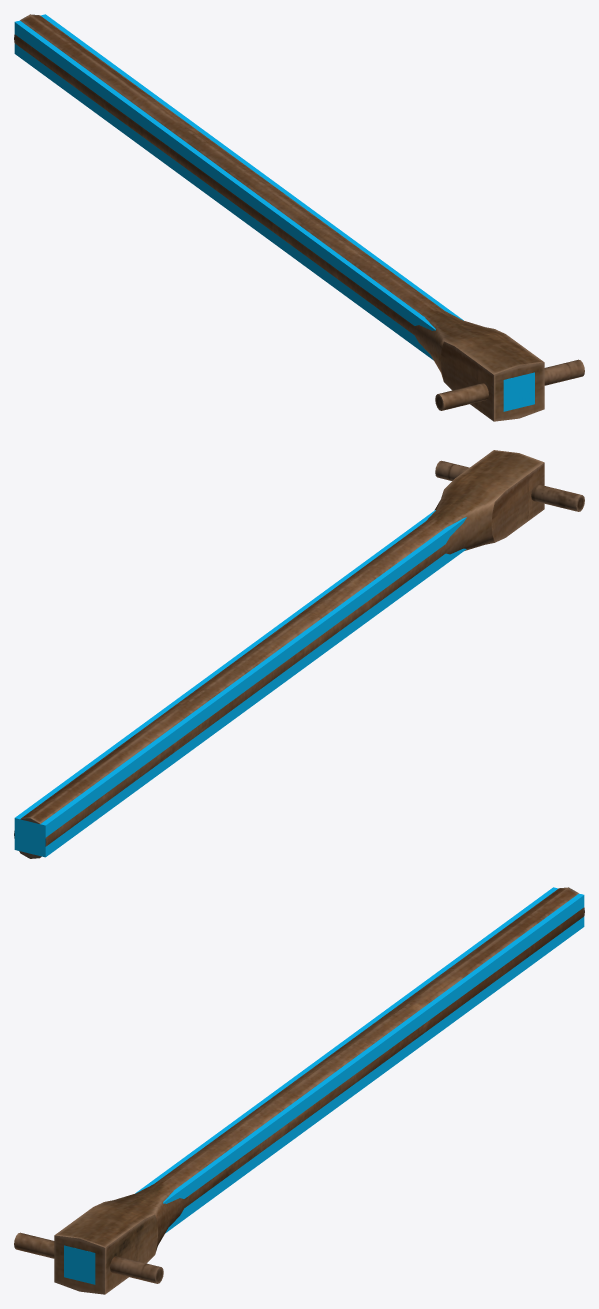
File: JWC_Shield_Tate_A_Pole_01.fbx
3 views of the same model, one above another, from view 1: azimuth 30°, elevation 25°; view 2: azimuth 150°, elevation 25°; view 3: azimuth 330°, elevation 25° (orthographic).
Parts seen in each view (by area): view 1: JWC_Shield_Tate_A_Pole_01, C_JWC_Shield_Tate_A_Pole_01; view 2: JWC_Shield_Tate_A_Pole_01, C_JWC_Shield_Tate_A_Pole_01; view 3: JWC_Shield_Tate_A_Pole_01, C_JWC_Shield_Tate_A_Pole_01.
Part boxes in pixels (x1=…): JWC_Shield_Tate_A_Pole_01: x1=14, y1=14, x2=584, y2=421; C_JWC_Shield_Tate_A_Pole_01: x1=14, y1=14, x2=534, y2=411; JWC_Shield_Tate_A_Pole_01: x1=14, y1=450, x2=584, y2=858; C_JWC_Shield_Tate_A_Pole_01: x1=14, y1=510, x2=466, y2=857; JWC_Shield_Tate_A_Pole_01: x1=14, y1=887, x2=584, y2=1294; C_JWC_Shield_Tate_A_Pole_01: x1=64, y1=887, x2=584, y2=1284.
Size of the model in its own units: 0.1724 by 0.062 by 1.03.
